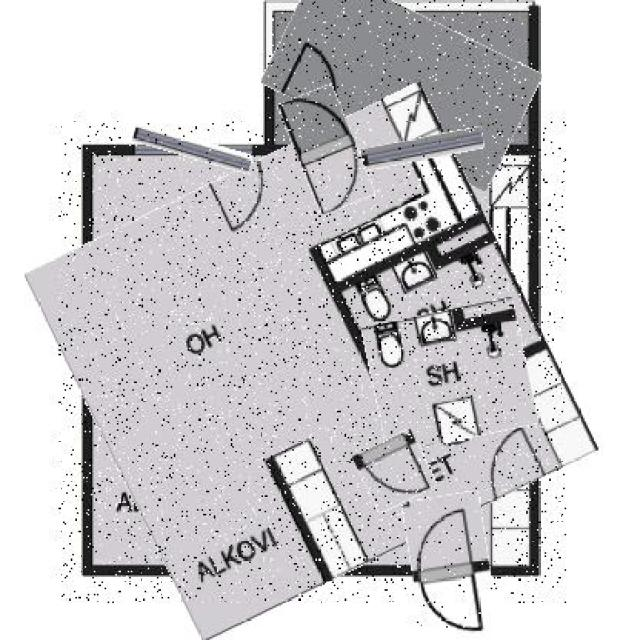door: (406, 492, 494, 640), (286, 86, 366, 211), (358, 432, 432, 508)
window: (360, 132, 485, 166), (132, 132, 252, 166)
zone: (59, 120, 566, 603), (268, 0, 532, 166), (368, 304, 532, 448)
